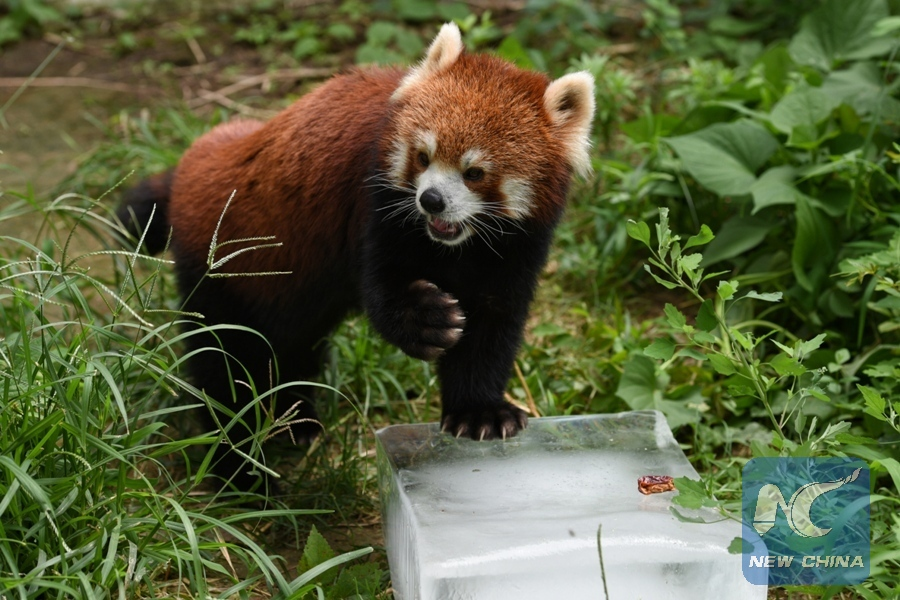red_panda: (117, 49, 590, 482)
